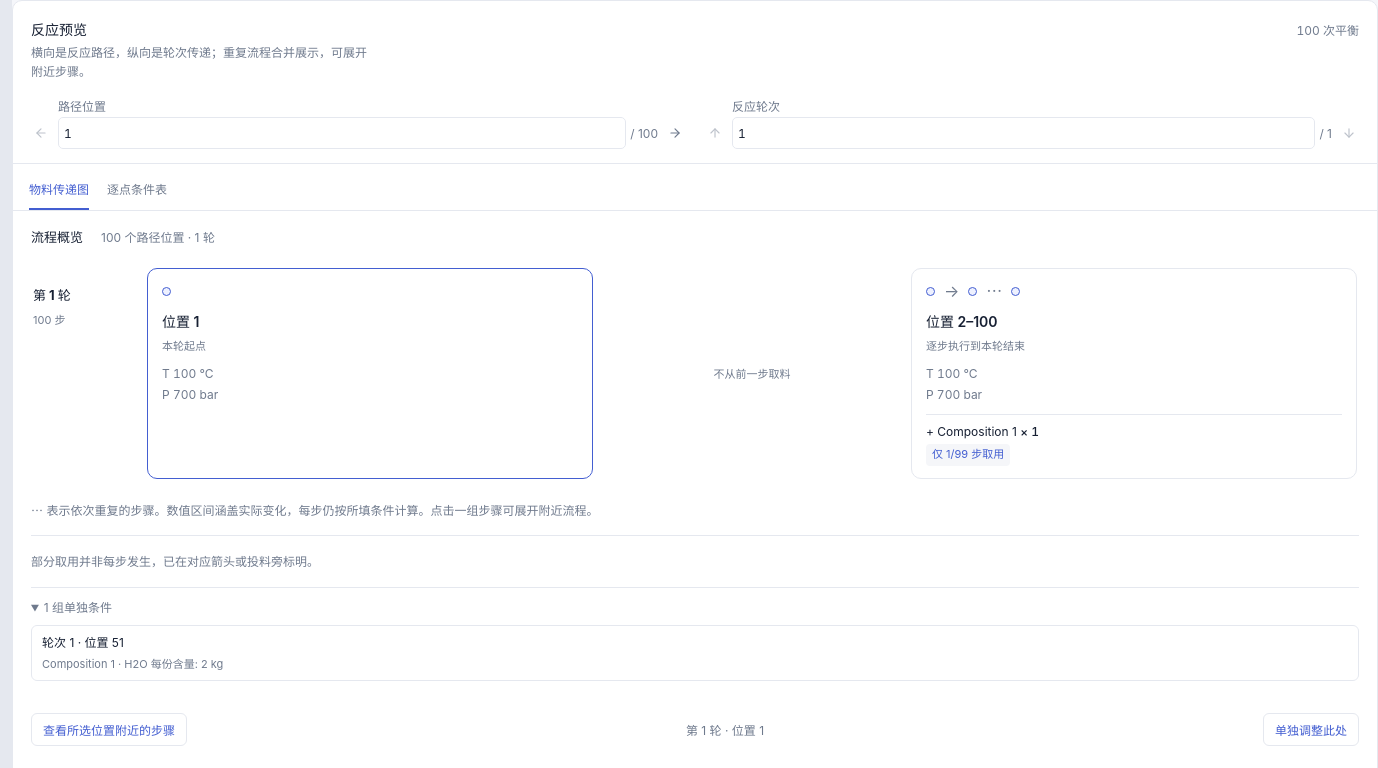
Scenario: finds the middle-only feed at point 51 of 100 without changing the configured count
This screenshot has width=1378, height=768.
Replace the text in the number field named "预览路径位置" with "51": coordinates (342, 133) [58,117,626,149]
(page scrolled)
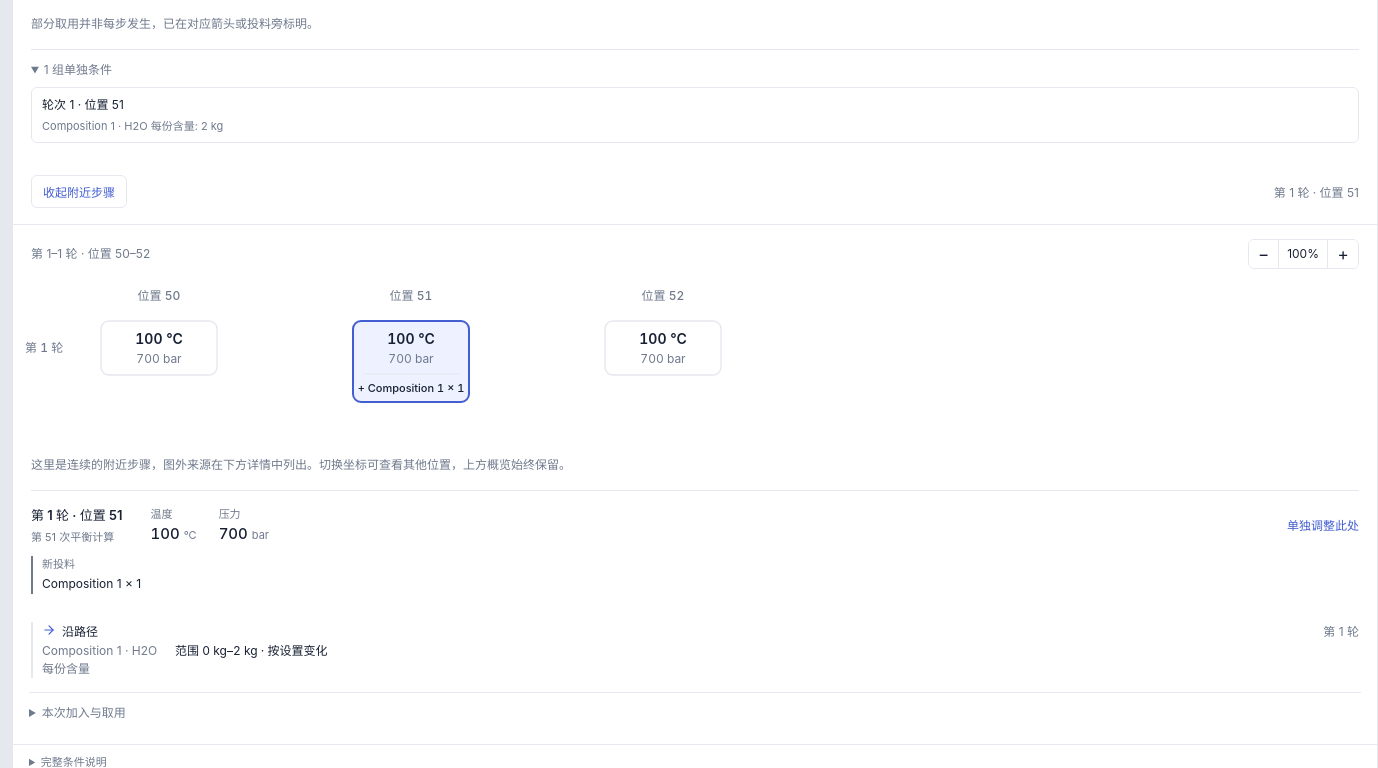
Check: the element with class "reaction-flow__current" shows "位置 51", box [31,507,122,523]
